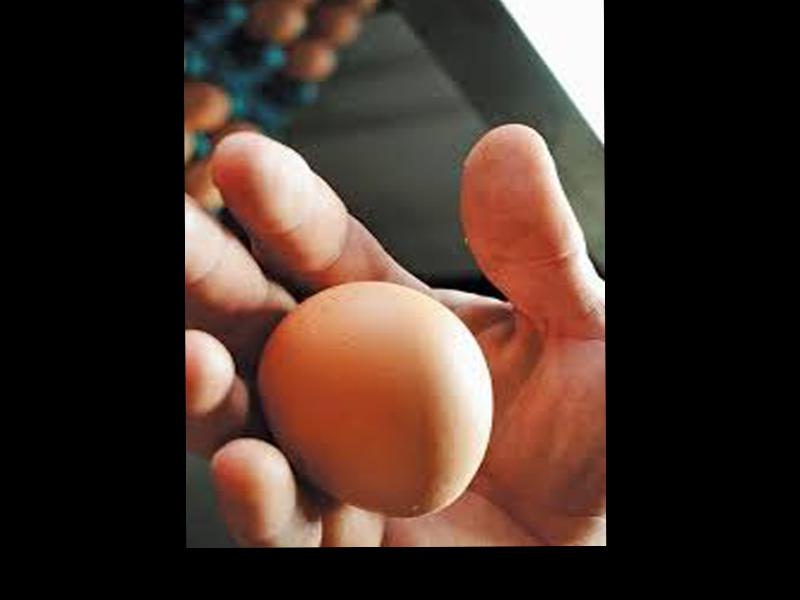Eggs: (253, 279, 491, 522)
